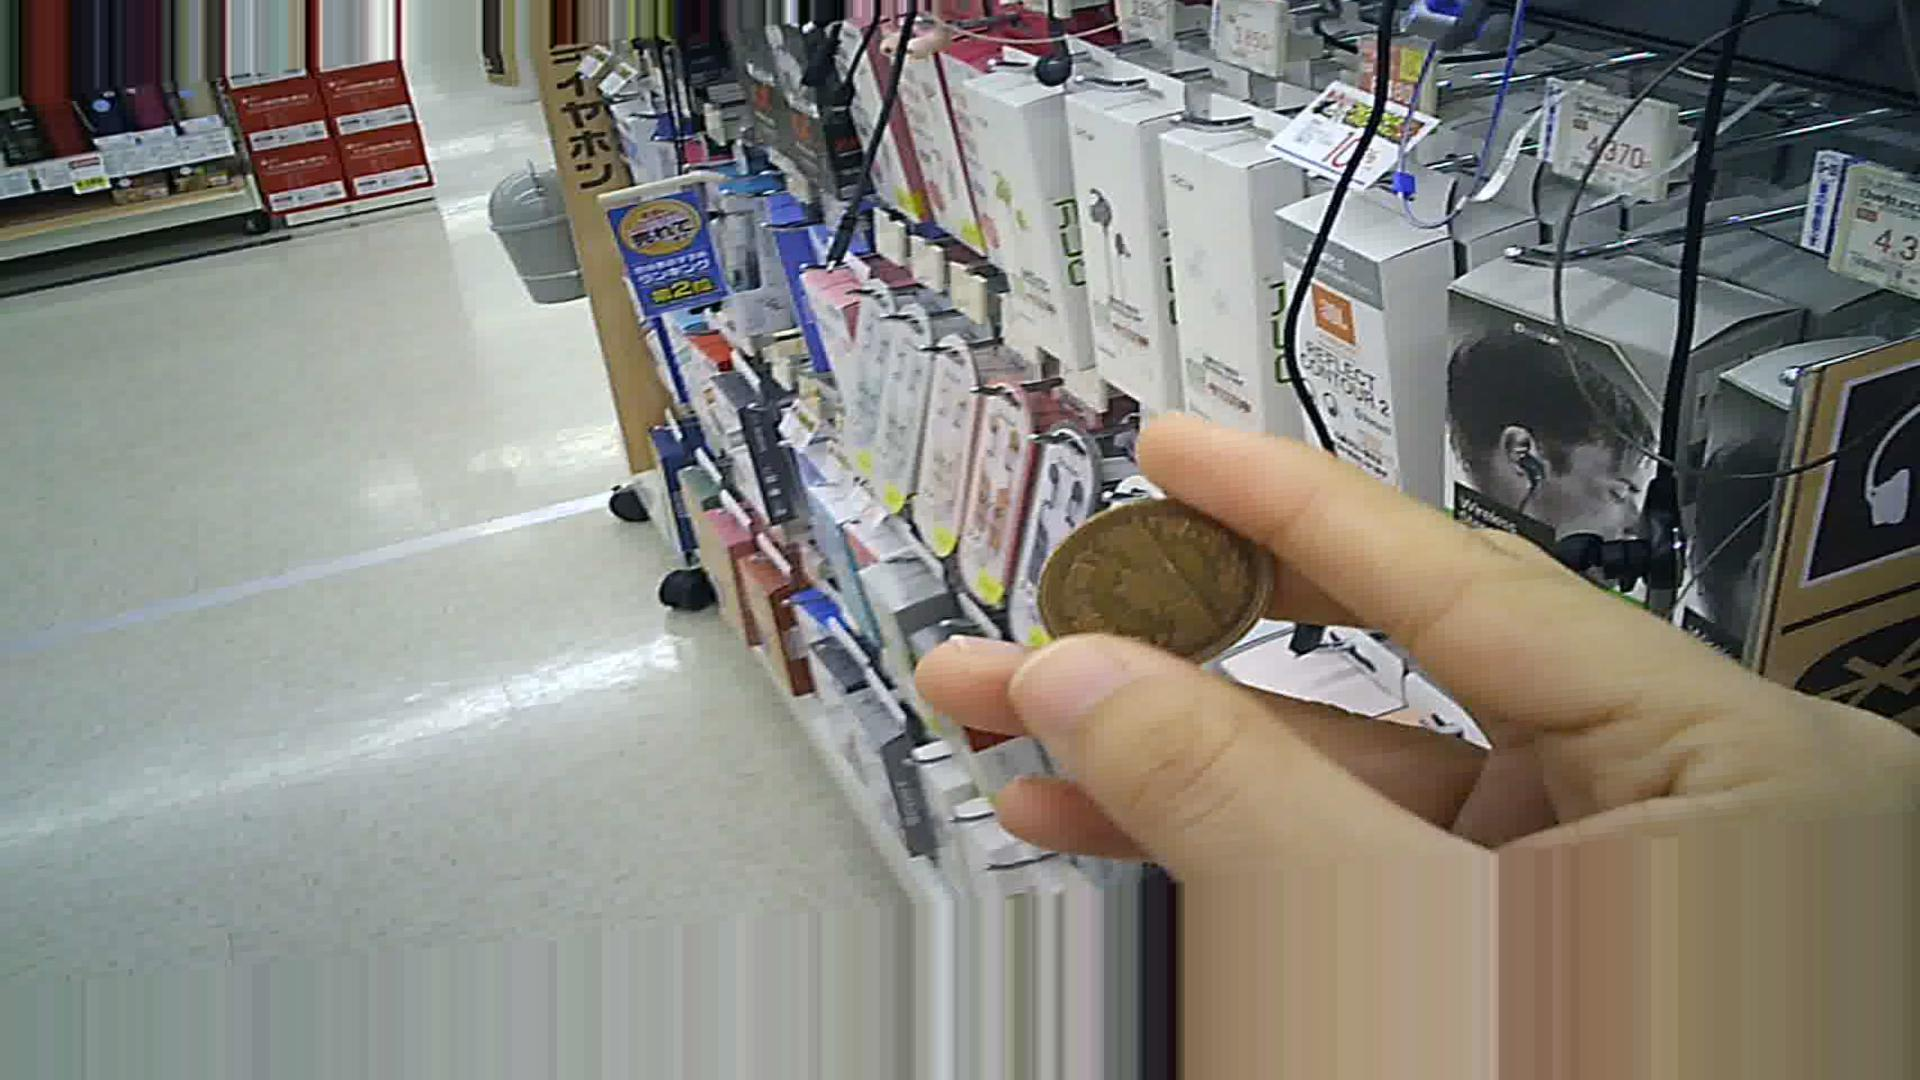10 Yen: (1033, 489, 1284, 678)
